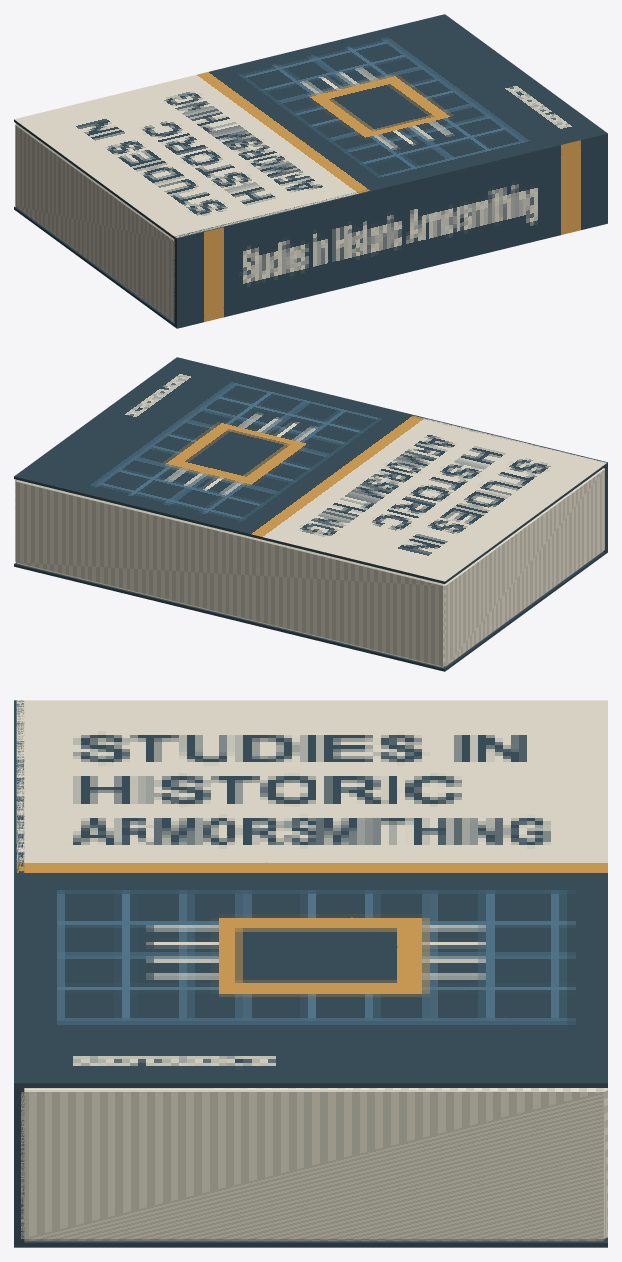
The model's file is textbook_armwest.glb.
3 views of the same model, one above another, from view 1: azimuth 30°, elevation 25°; view 2: azimuth 150°, elevation 25°; view 3: azimuth 270°, elevation 25° (orthographic). The views are drawn at different scales.
Visible parts, largest first — view 1: block_front, block_spine, block_pages, block_back; view 2: block_front, block_pages, block_back, block_spine; view 3: block_front, block_pages, block_spine, block_back.
Part boxes in pixels (x1,y1,x2,y2): block_front: (14,14,606,239); block_spine: (174,133,607,328); block_pages: (15,123,174,322); block_back: (14,206,176,326); block_front: (14,357,606,583); block_pages: (15,468,604,667); block_back: (14,551,604,671); block_spine: (175,357,607,554); block_front: (16,700,607,1087); block_pages: (21,1088,607,1241); block_spine: (14,700,24,1247); block_back: (16,1237,607,1247).
Bounding box in the file's own units: 0.2661 × 0.0532 × 0.1743.
1 material, 1 textured.
